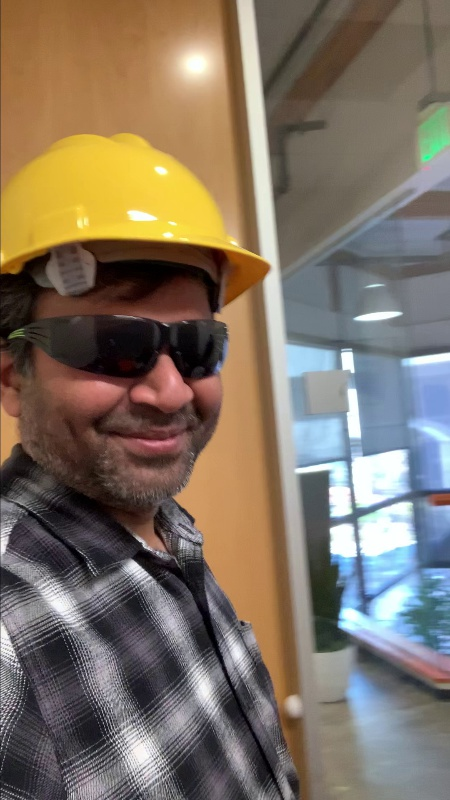glasses: (41, 306, 230, 387)
helmet: (1, 127, 277, 297)
